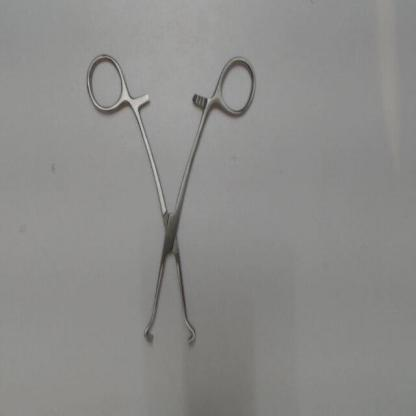Babcock Tissue Forceps: (78, 52, 261, 352)
